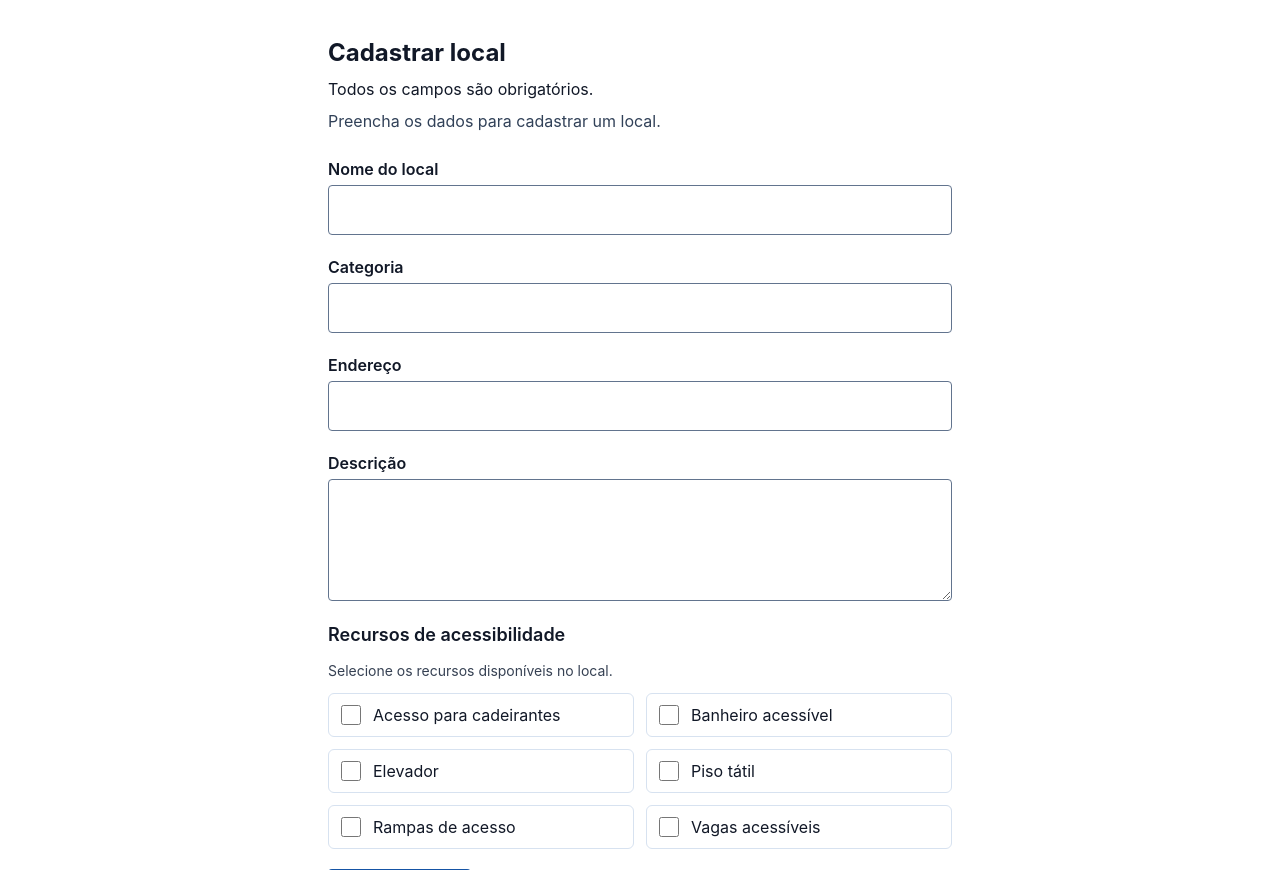
Test case: Confirmação do cadastro › abre o diálogo com o nome e permite confirmar
Type "Biblioteca" into the field labelled "Nome do local" at (640, 210), box [328,185,952,235]
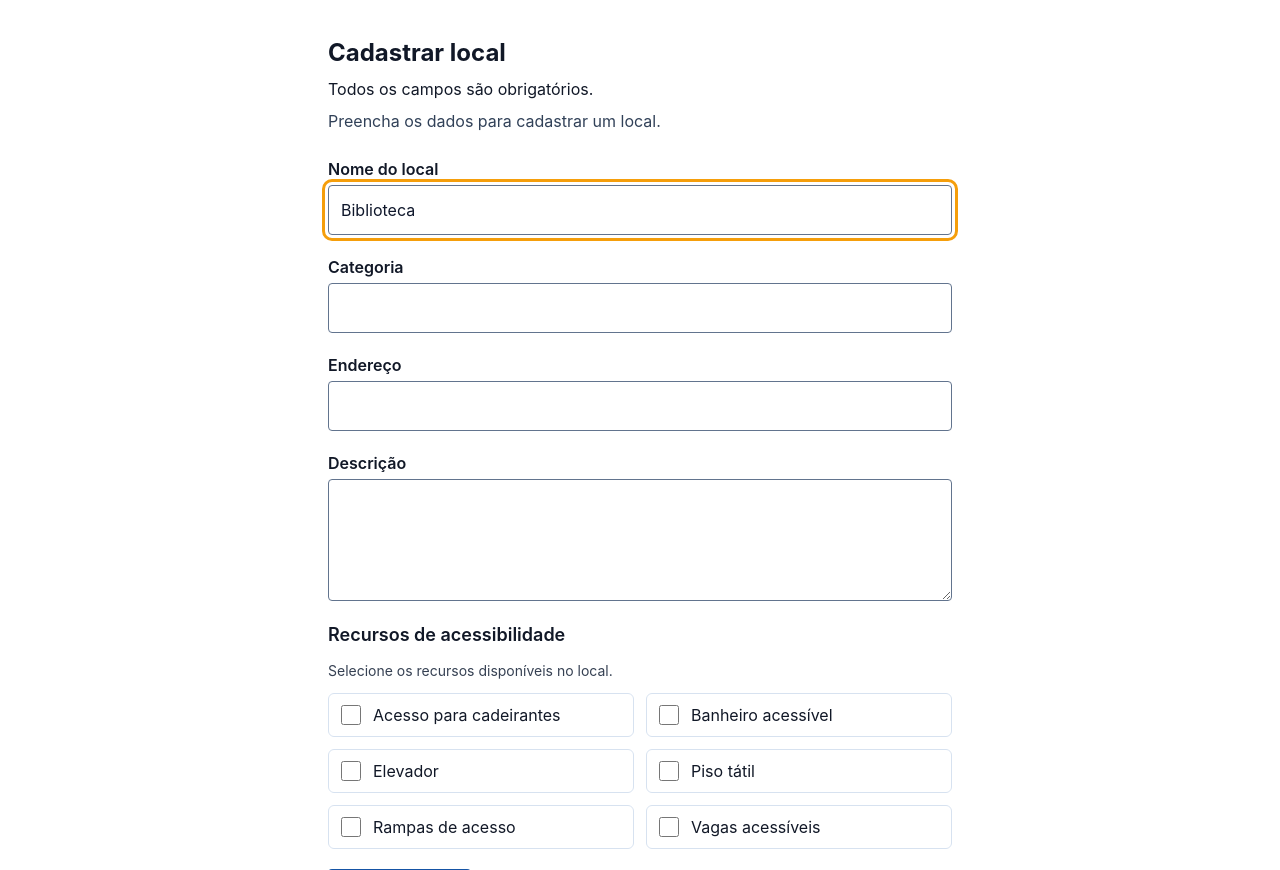
Type "Educação" into the field labelled "Categoria" at (640, 308), box [328,283,952,333]
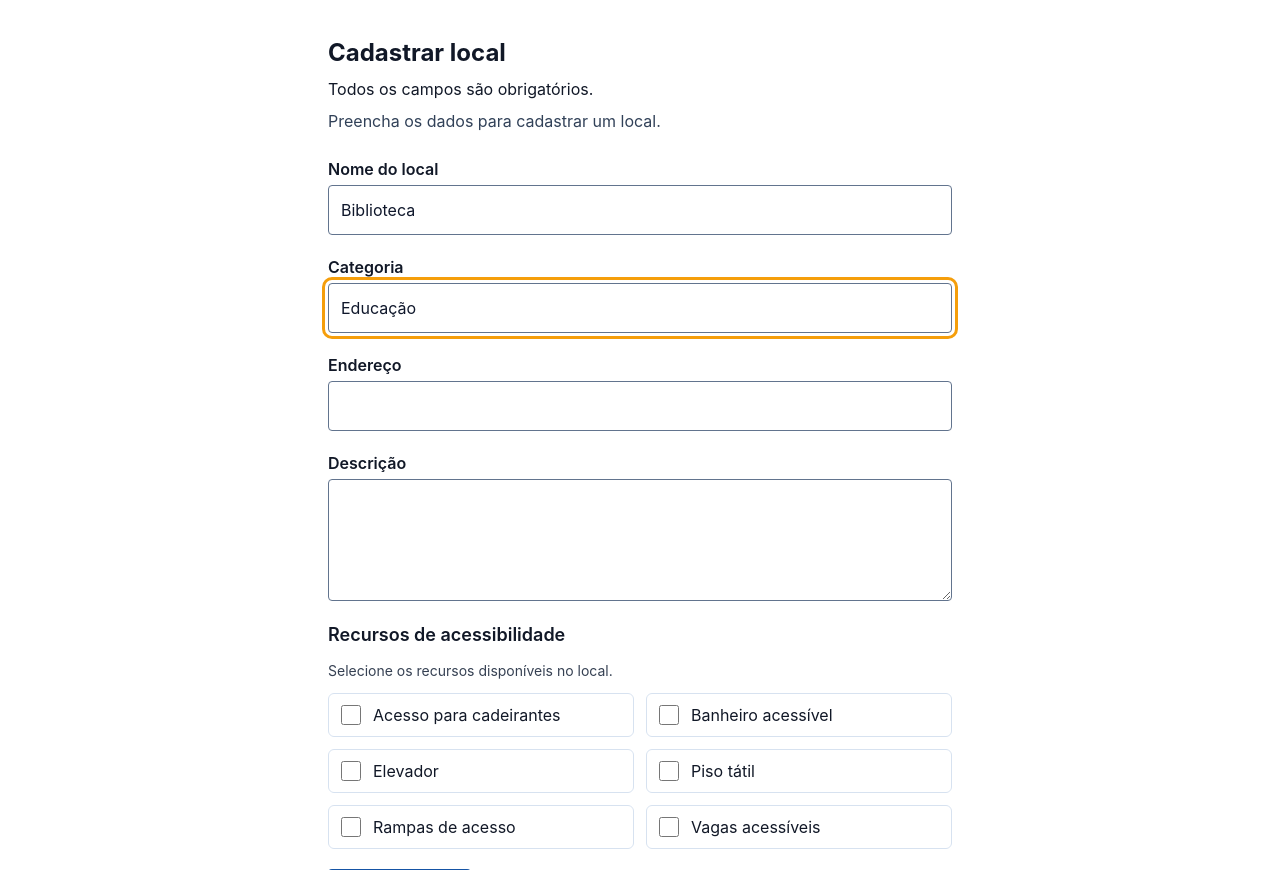
Type "Rua A, 10" into the field labelled "Endereço" at (640, 406), box [328,381,952,431]
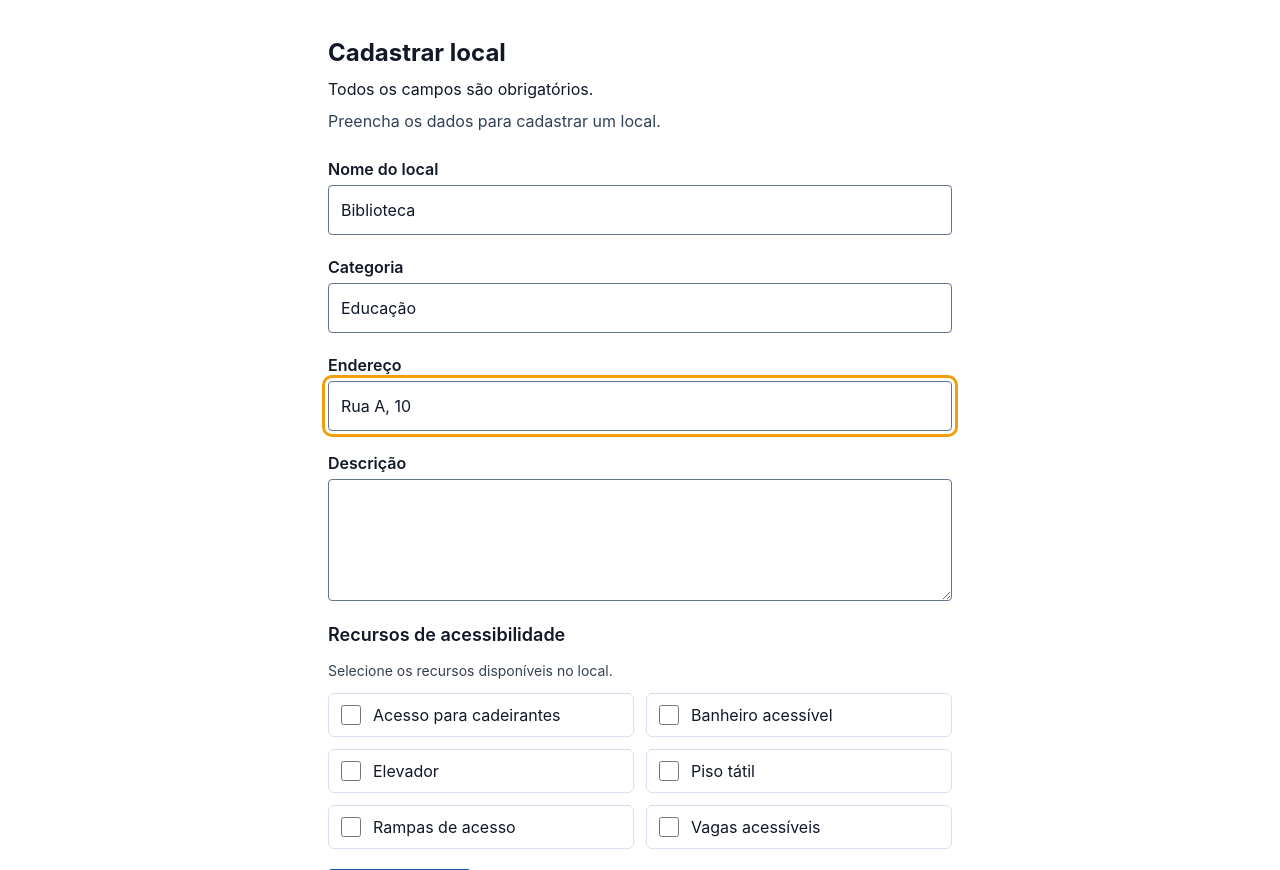
Type "Entrada com rampa" into the text box labelled "Descrição" at (640, 540), box [328,479,952,601]
(page scrolled)
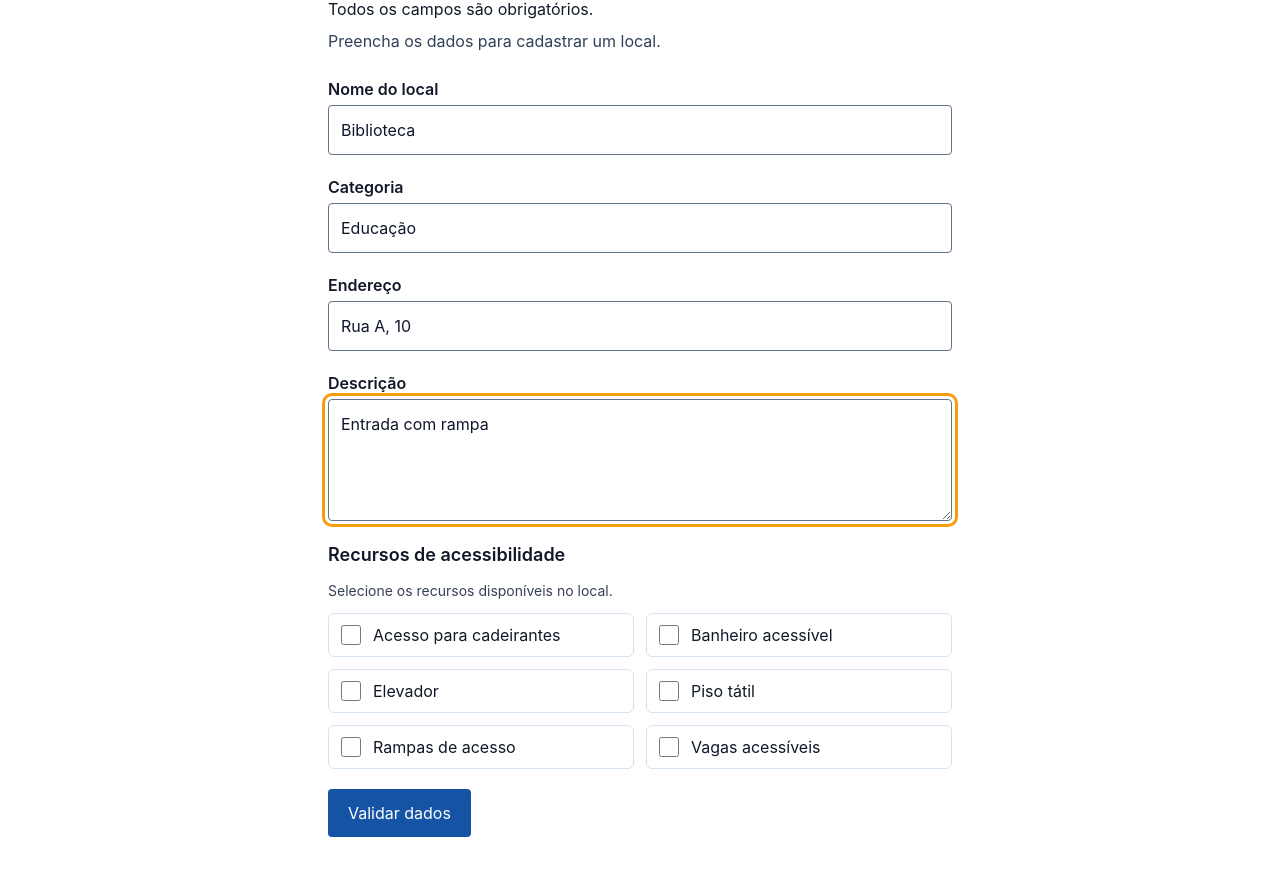
Click the button "Validar dados" at (399, 813), box [328,789,471,837]
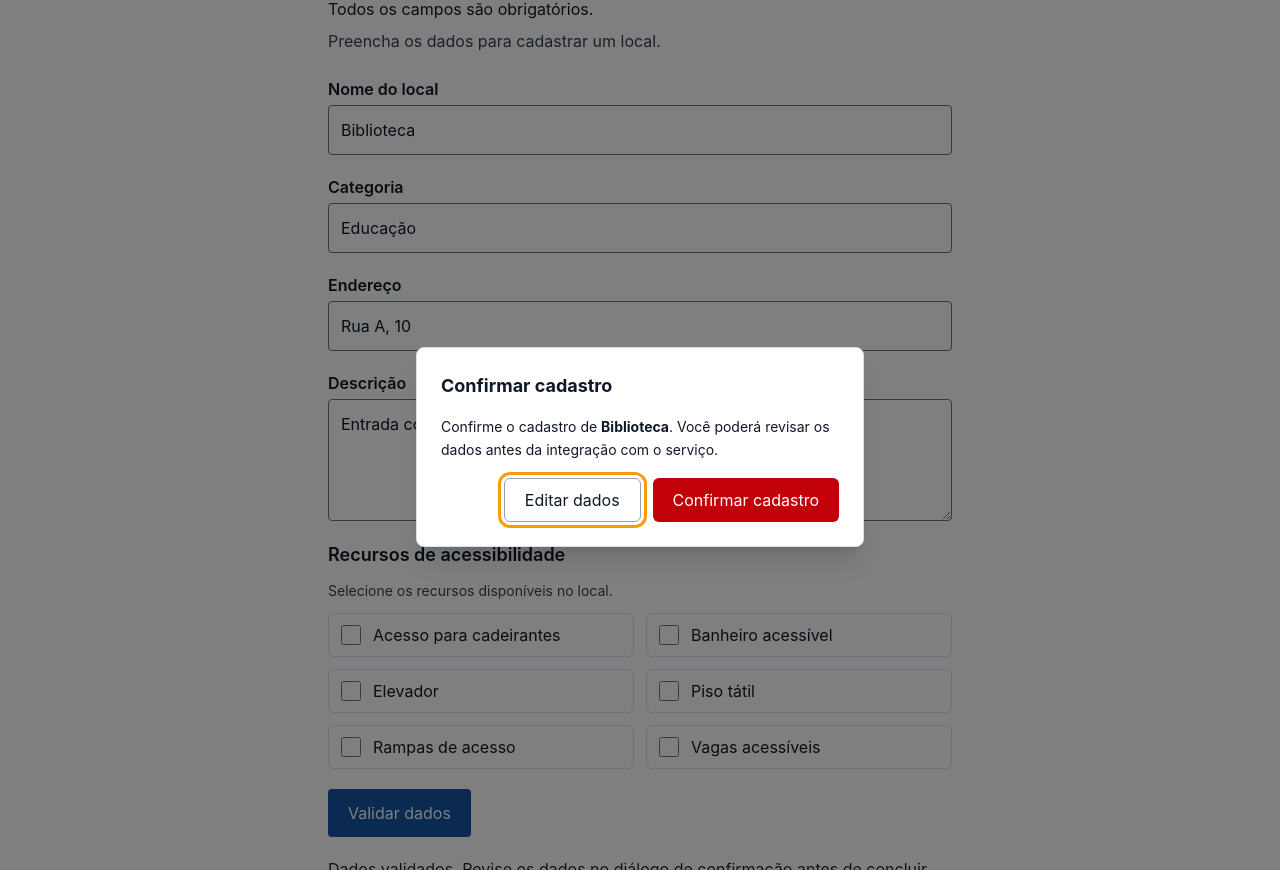
Expected: the heading "Confirmar cadastro" is shown, [441,375,612,396]
Expected: the text "Biblioteca" is shown, [601,418,669,435]
Click the button "Confirmar cadastro" at (746, 500), box [653,478,839,522]
(page scrolled)
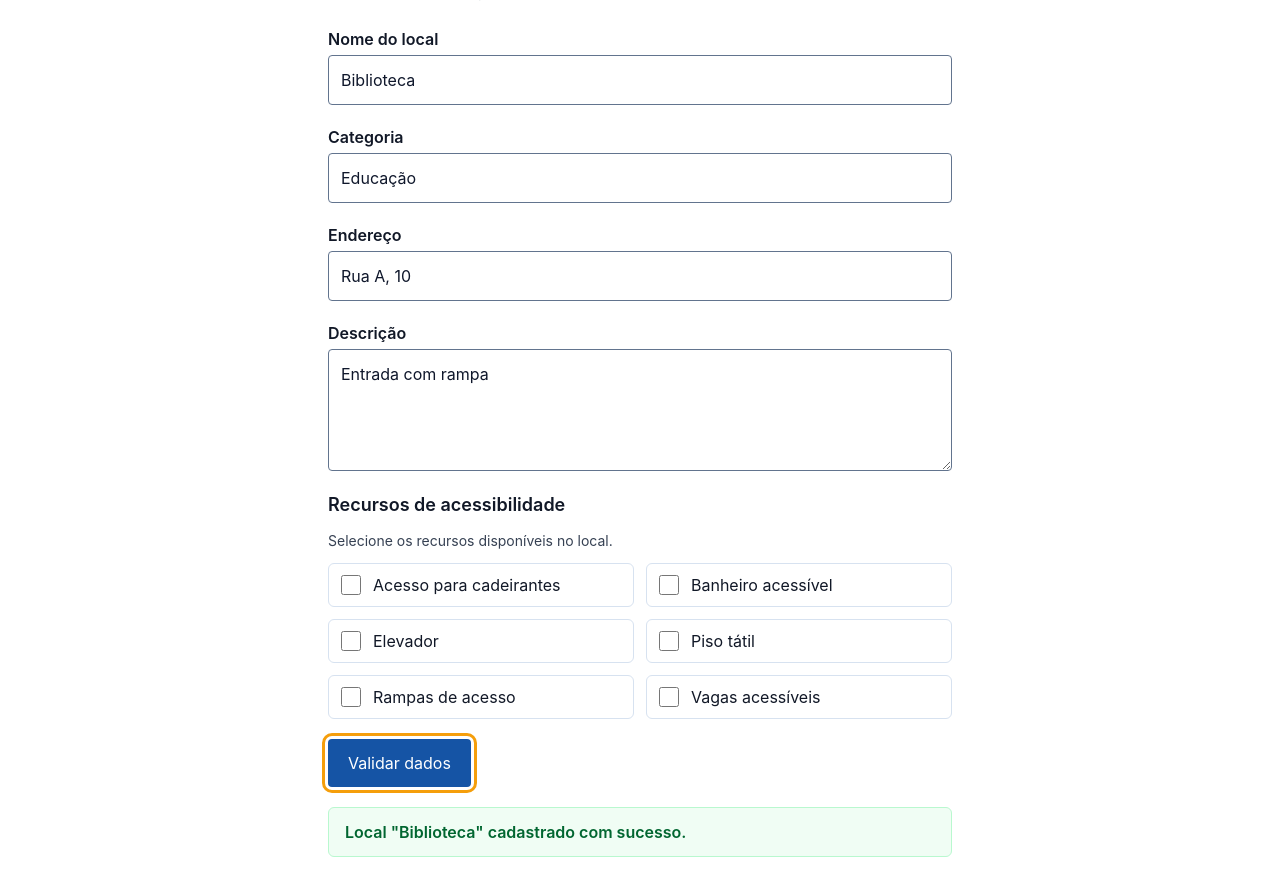
Expected: the message reads "Local \"Biblioteca\" cadastrado com sucesso.", [345,822,686,842]
